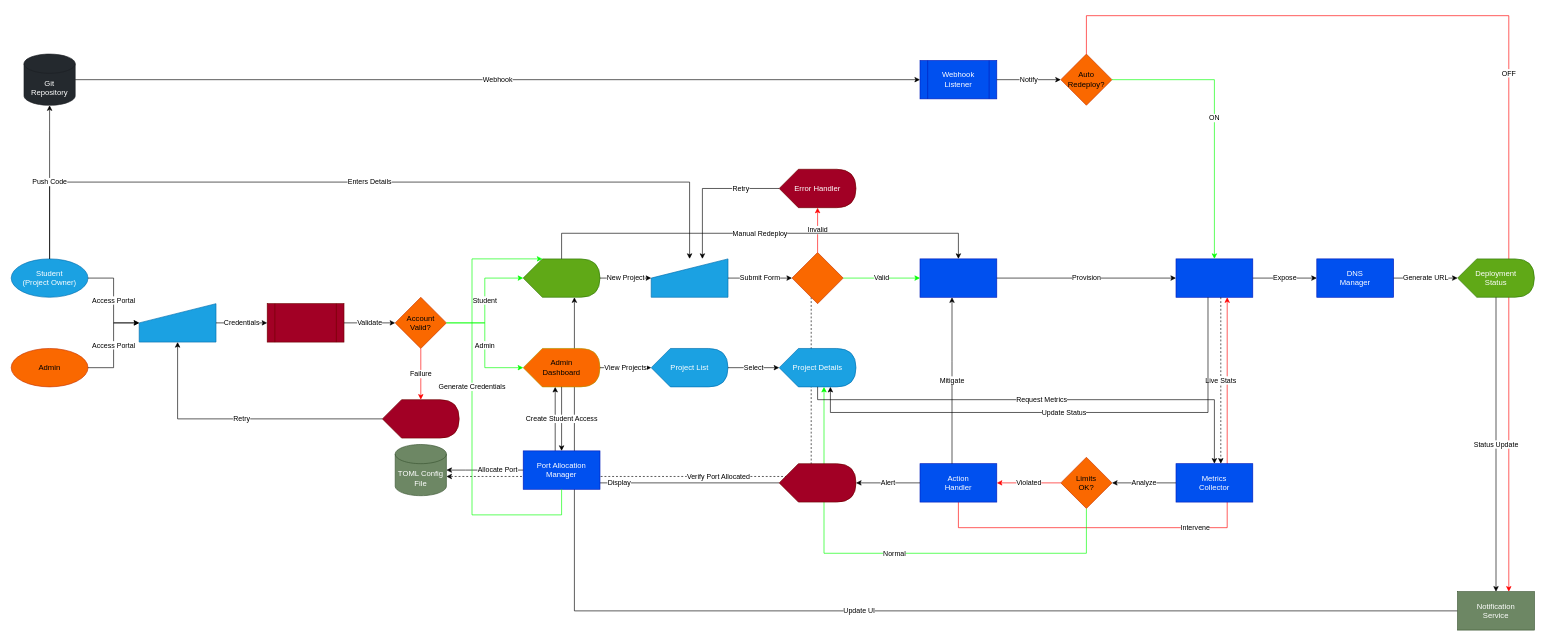
Some shapes in this 1546 by 641 pixel diagram are drawn without their labels. The shapes that lost their labels are listed below. From the top down, each one's centre as x and y in pixels, then its label:
the point at 561,277: Student Dashboard
the point at 689,277: Create Project Modal
the point at 817,278: Input Valid?
the point at 958,277: Orchestrator (Ops Service)
the point at 1214,277: Runtime Manager
the point at 177,322: Login Page
the point at 305,322: DASSAL Auth
the point at 420,418: Error Message
the point at 817,482: System Alerts
